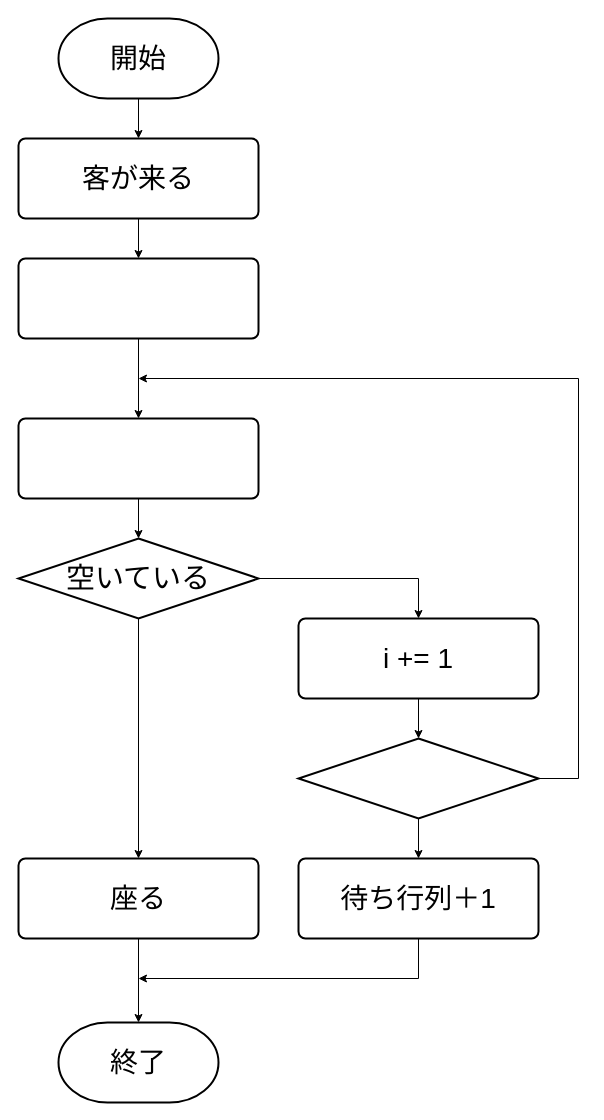
The diagram is 604 pixels wide and 1120 high, and some of its shapes have lost their labels. The box of each missing label's shape, as (x1, y1, x2, y2) in pixels:
i = 0: (17, 257, 259, 339)
i = 8: (297, 737, 539, 819)
i番目の席を確認: (17, 417, 259, 499)
